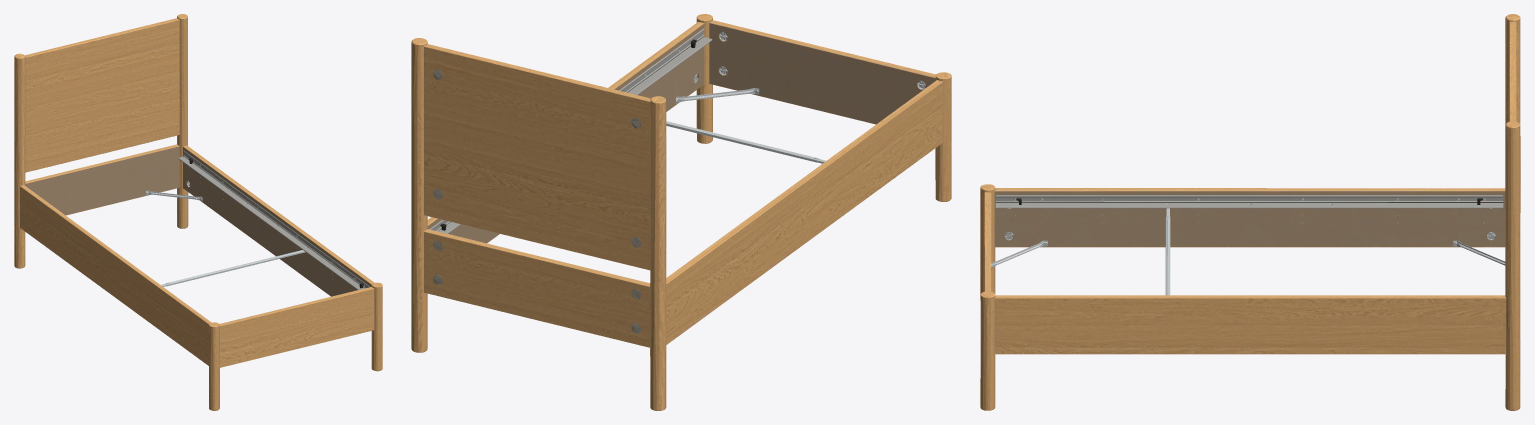
3 views of the same model, side by side, from view 1: azimuth 30°, elevation 25°; view 2: azimuth 150°, elevation 25°; view 3: azimuth 270°, elevation 25° (orthographic). The views are drawn at different scales.
Visible parts, largest first — view 1: 10603547-TONSTAD001_NODE_ID_8cd78b29-1a9d-4347-9e15-cfa7aa06; view 2: 10603547-TONSTAD001_NODE_ID_8cd78b29-1a9d-4347-9e15-cfa7aa06; view 3: 10603547-TONSTAD001_NODE_ID_8cd78b29-1a9d-4347-9e15-cfa7aa06.
Part boxes in pixels (<box>): 10603547-TONSTAD001_NODE_ID_8cd78b29-1a9d-4347-9e15-cfa7aa06: <box>14,14,382,410</box>; 10603547-TONSTAD001_NODE_ID_8cd78b29-1a9d-4347-9e15-cfa7aa06: <box>411,14,951,410</box>; 10603547-TONSTAD001_NODE_ID_8cd78b29-1a9d-4347-9e15-cfa7aa06: <box>980,14,1520,410</box>.
Bounding box in the file's own units: 0.99 × 1.16 × 1.99.
1 material, 1 textured.
